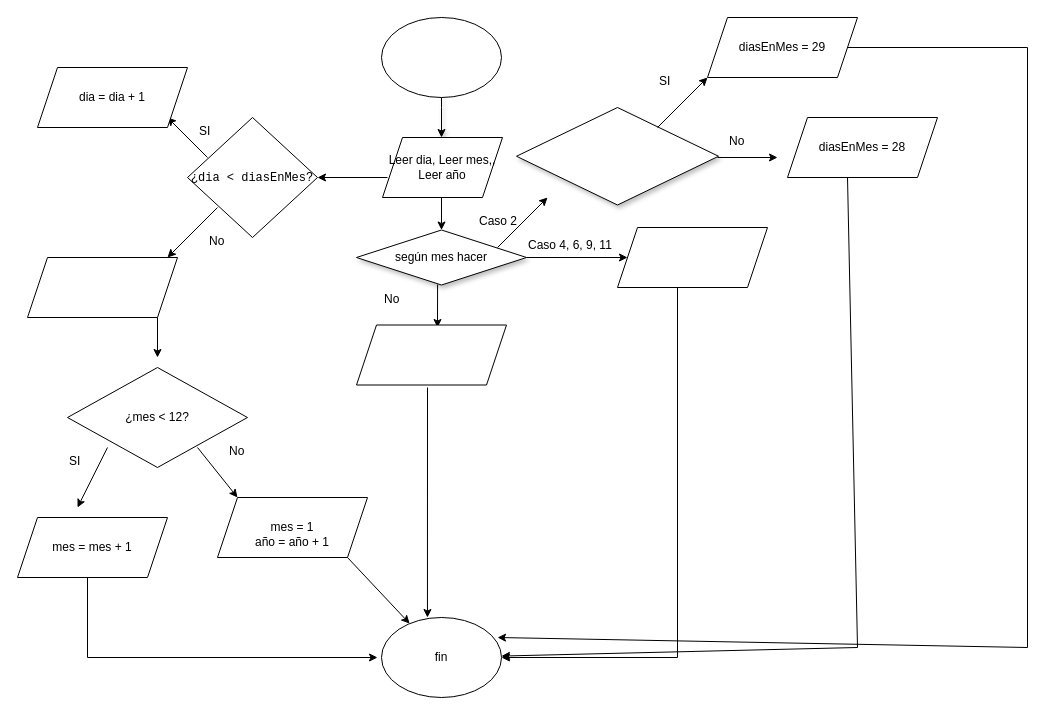
The diagram is 1053 pixels wide and 715 high, and some of its shapes have lost their labels. The shapes that lost their labels are listed below. From the top down, each one's centre as x and y in pixels, then its label:
the point at 441,57: Inicio
the point at 618,157: ((año % 4 = 0 y año % 100 ≠ 0) o (año % 400 = 0))
the point at 692,257: diasEnMes = 30
the point at 102,287: dia = 1
the point at 431,354: diasEnMes = 31
